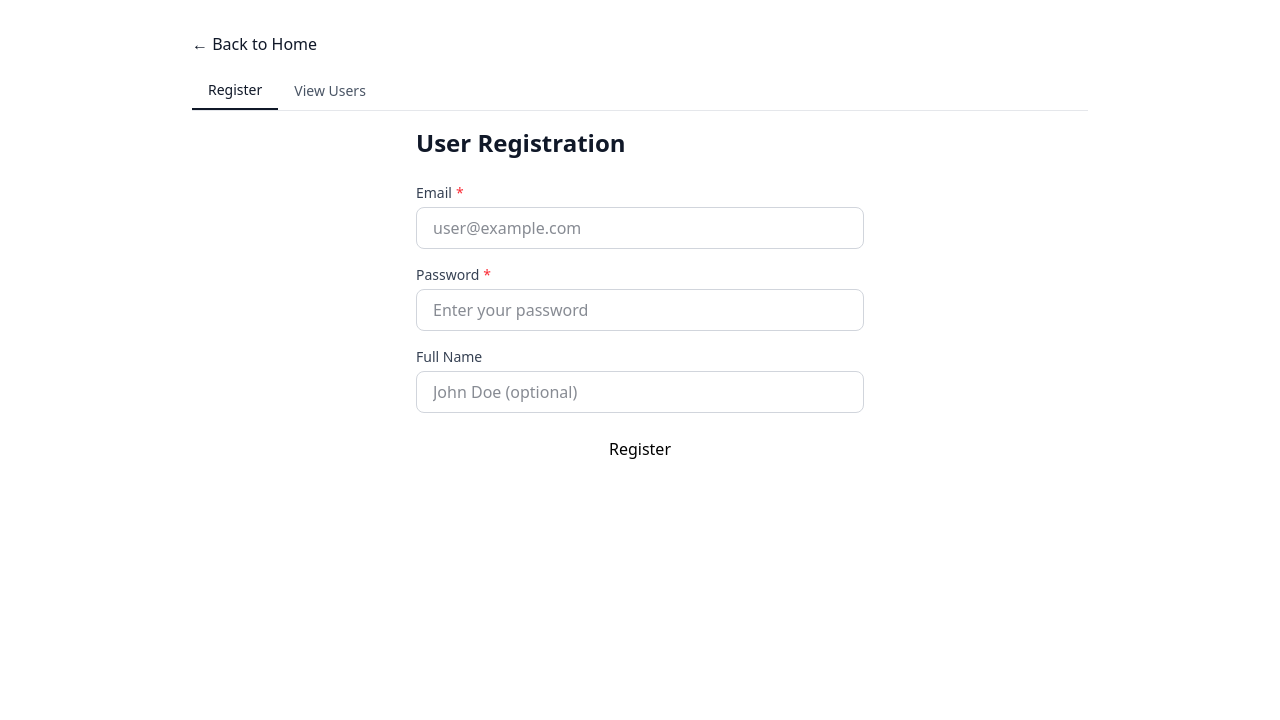
Test: Registration Page › shows success modal after mock successful response
Type "test@example.com" into the field labelled "Email*" at (640, 228), box [416, 207, 864, 249]
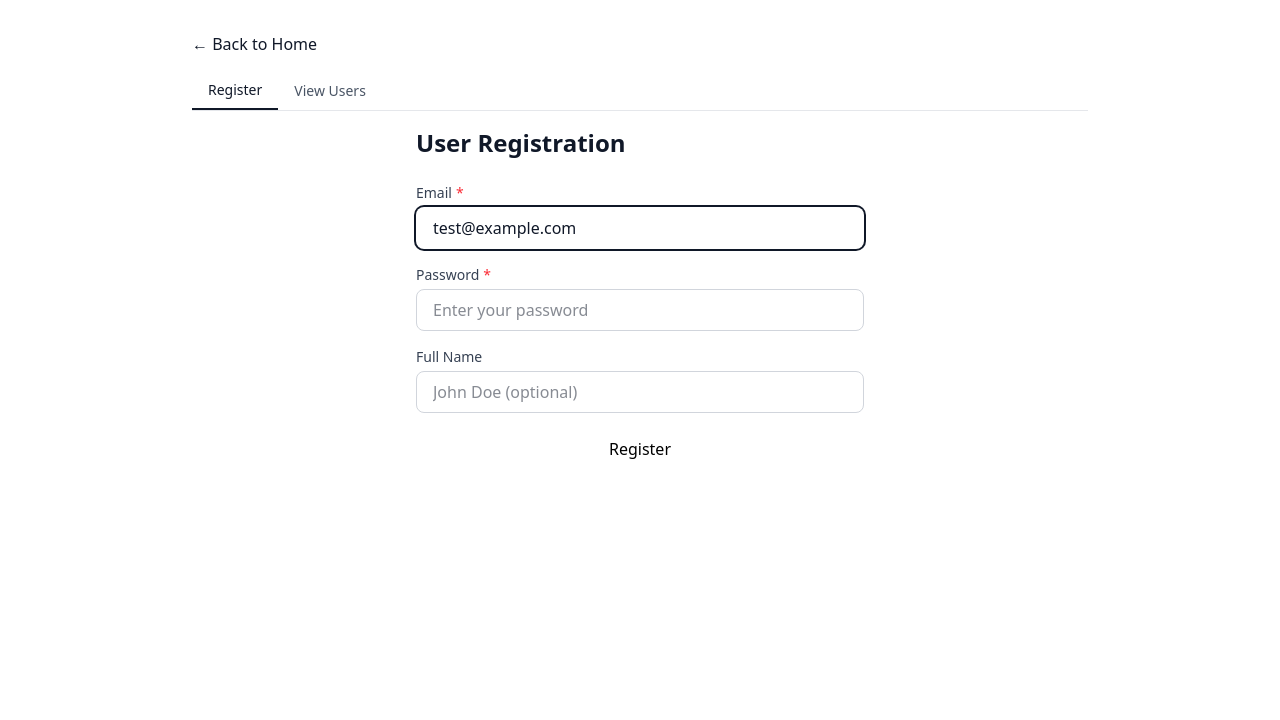
Type "password123" into the password field labelled "Password*" at (640, 310), box [416, 289, 864, 331]
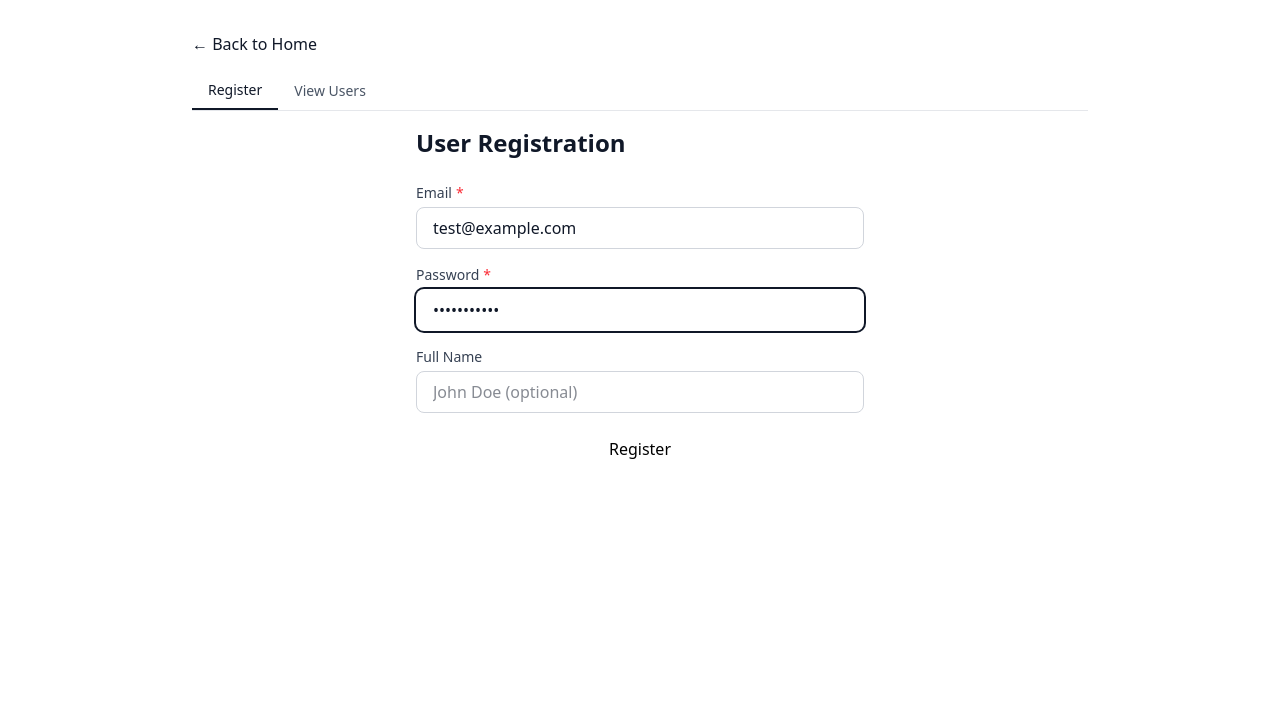
Click the button "Register" at (640, 449), box [416, 429, 864, 469]
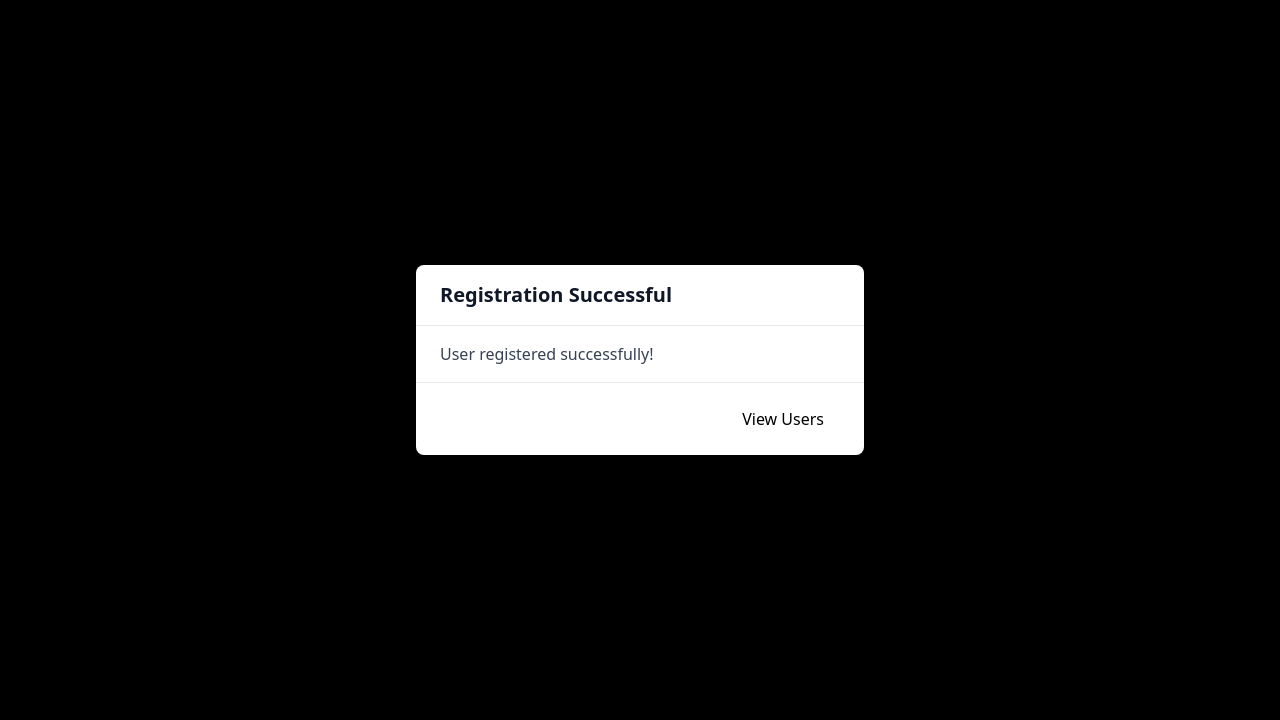
Check: the dialog is shown
Check: the heading "Registration Successful" is shown, box [440, 281, 672, 308]
Check: the text "User registered successfully!" is shown, box [440, 343, 654, 365]
